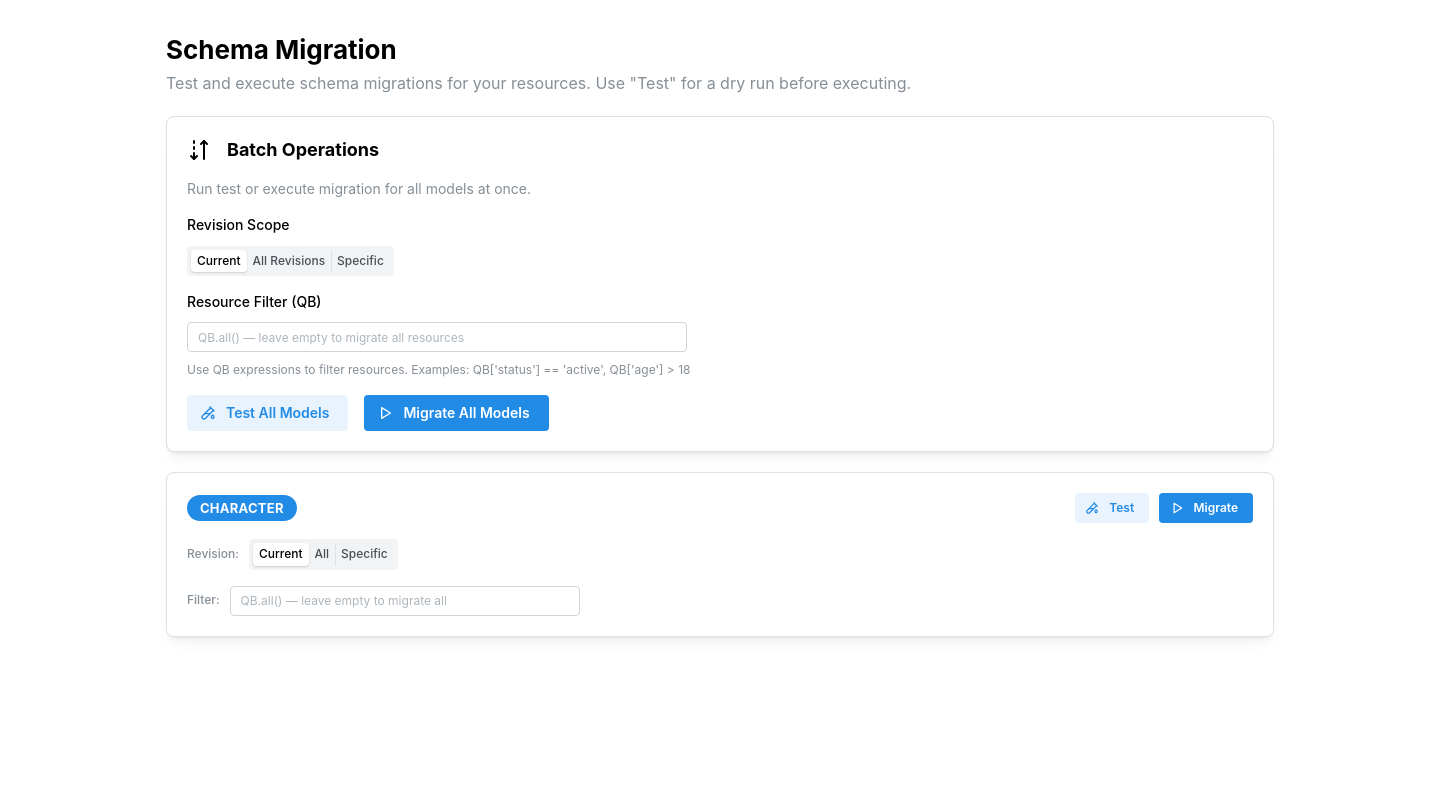
Test: MigrationStatus › shows progress items with different statuses
The width and height of the screenshot is (1440, 800).
Click the button "Test".
click(1112, 508)  # box [1075,493,1149,523]
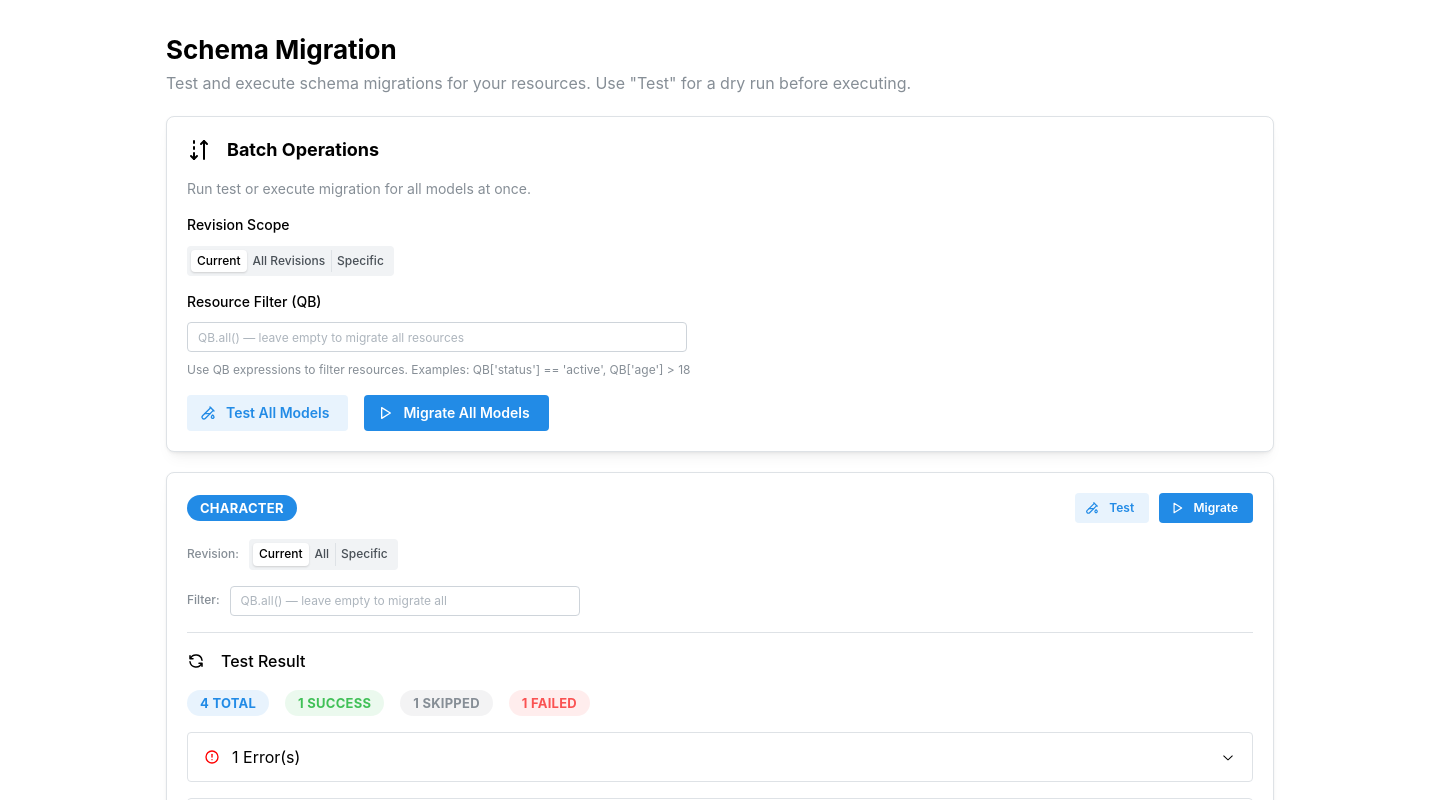
Result: the text "4 total" is shown at [200,691,256,715]
